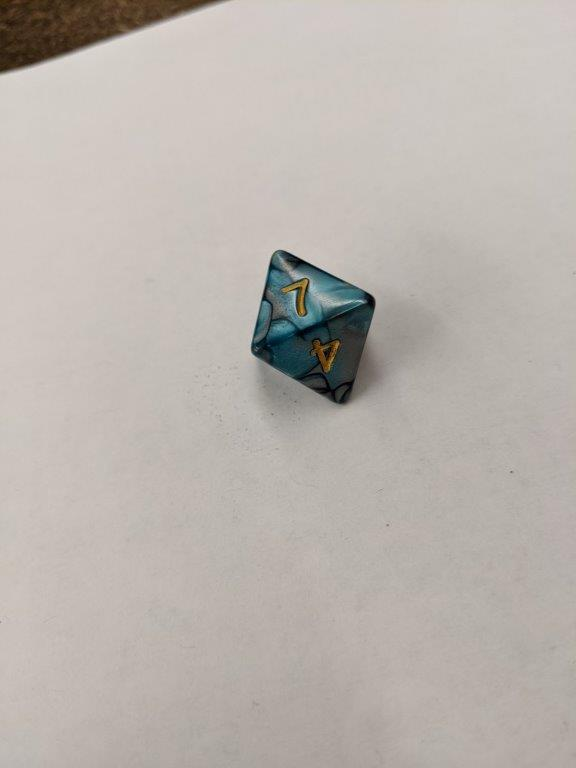d8-7: (249, 250, 376, 406)
